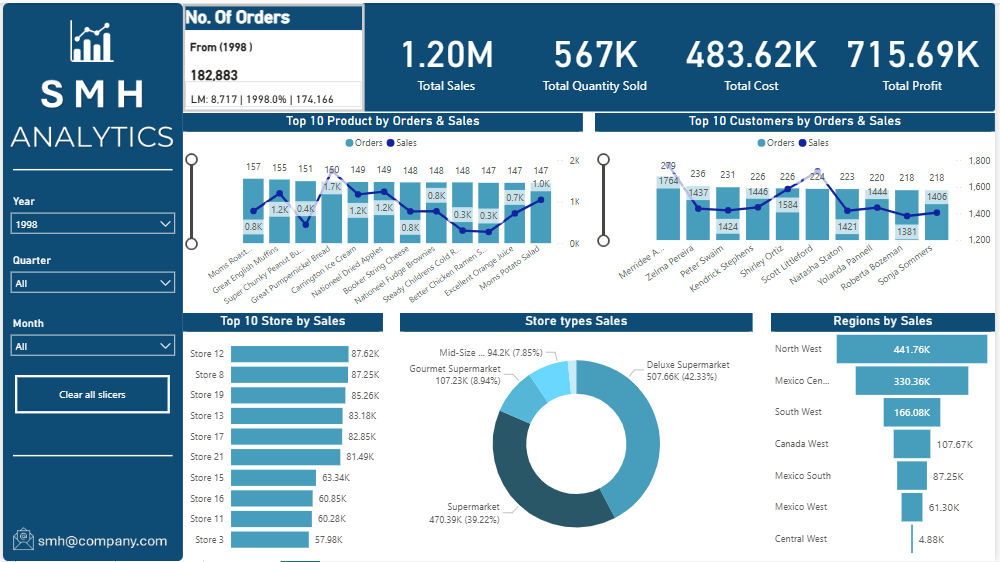

The dashboard page shown, as its layout file describes it:
{"tool":"powerbi","page":{"name":"Dashboard","canvas":[1280,720],"ordinal":0},"visuals":[{"type":"cardVisual","title":"No. Of Orders","fields":{"Data":["Calender Table.KPI Period","Measures For Data.No Of Orders","Measures For Data.KPI Text"]},"box":[232.4,1.4,233.9,138.9],"z":0},{"type":"slicer","fields":{"Values":["Calender Table.Date.Variation.Date Hierarchy.Year"]},"box":[0,242.4,232.4,80.8],"z":1000},{"type":"slicer","fields":{"Values":["Calender Table.Date.Variation.Date Hierarchy.Quarter"]},"box":[0,318.9,232.4,80.8],"z":2000},{"type":"slicer","fields":{"Values":["Calender Table.Date.Variation.Date Hierarchy.Month"]},"box":[0,399.7,232.4,80.8],"z":3000},{"type":"actionButton","box":[15.6,480.5,199.8,49.6],"z":4000},{"type":"card","fields":{"Values":["Sum(Transactions_Data.Revenue)"]},"box":[466.3,18.4,212.6,104.9],"z":5000},{"type":"card","fields":{"Values":["Sum(Transactions_1998.quantity)"]},"box":[663.3,18.4,201.3,104.9],"z":6000},{"type":"card","fields":{"Values":["Sum(Transactions_Data.Cost)"]},"box":[864.6,18.4,202.7,104.9],"z":7000},{"type":"card","fields":{"Values":["Sum(Transactions_Data.Profit)"]},"box":[1067.2,18.4,212.6,104.9],"z":8000},{"type":"lineStackedColumnComboChart","title":"Top 10 Product by Orders & Sales","fields":{"Y":["Measures For Data.No Of Orders"],"Category":["Products.product_name"],"Y2":["Sum(Transactions_Data.Revenue)"]},"box":[232.4,141.7,515.9,258],"z":9000},{"type":"lineStackedColumnComboChart","title":"Top 10 Customers by Orders & Sales","fields":{"Y":["Measures For Data.No Of Orders"],"Y2":["Sum(Transactions_Data.Revenue)"],"Category":["Customers.Full-Name"]},"box":[763.9,141.7,515.9,258],"z":10000},{"type":"barChart","title":"Top 10 Store by Sales","fields":{"Category":["Stores.store_name"],"Y":["Sum(Transactions_Data.Revenue)"]},"box":[232.4,399.7,258,318.9],"z":11000},{"type":"donutChart","title":"Store types Sales","fields":{"Y":["Sum(Transactions_Data.Revenue)"],"Category":["Stores.store_type"]},"box":[511.7,399.7,455,318.9],"z":12000},{"type":"funnel","title":"Regions by Sales","fields":{"Y":["Sum(Transactions_Data.Revenue)"],"Category":["Regions.sales_region"]},"box":[990.7,399.7,289.1,318.9],"z":13000}]}

Visuals, with their boxes in screenshot pixels (x1, y1, x2, y2), scaled from the page's 1280x720 canvas onto the 1000x562 screenshot:
"No. Of Orders" cardVisual: (x1=182, y1=1, x2=364, y2=110)
slicer - Calender Table.Date.Variation.Date Hierarchy.Year: (x1=0, y1=189, x2=182, y2=252)
slicer - Calender Table.Date.Variation.Date Hierarchy.Quarter: (x1=0, y1=249, x2=182, y2=312)
slicer - Calender Table.Date.Variation.Date Hierarchy.Month: (x1=0, y1=312, x2=182, y2=375)
actionButton: (x1=12, y1=375, x2=168, y2=414)
card - Sum(Transactions_Data.Revenue): (x1=364, y1=14, x2=530, y2=96)
card - Sum(Transactions_1998.quantity): (x1=518, y1=14, x2=675, y2=96)
card - Sum(Transactions_Data.Cost): (x1=675, y1=14, x2=834, y2=96)
card - Sum(Transactions_Data.Profit): (x1=834, y1=14, x2=999, y2=96)
"Top 10 Product by Orders & Sales" lineStackedColumnComboChart: (x1=182, y1=111, x2=585, y2=312)
"Top 10 Customers by Orders & Sales" lineStackedColumnComboChart: (x1=597, y1=111, x2=999, y2=312)
"Top 10 Store by Sales" barChart: (x1=182, y1=312, x2=383, y2=561)
"Store types Sales" donutChart: (x1=400, y1=312, x2=755, y2=561)
"Regions by Sales" funnel: (x1=774, y1=312, x2=999, y2=561)
